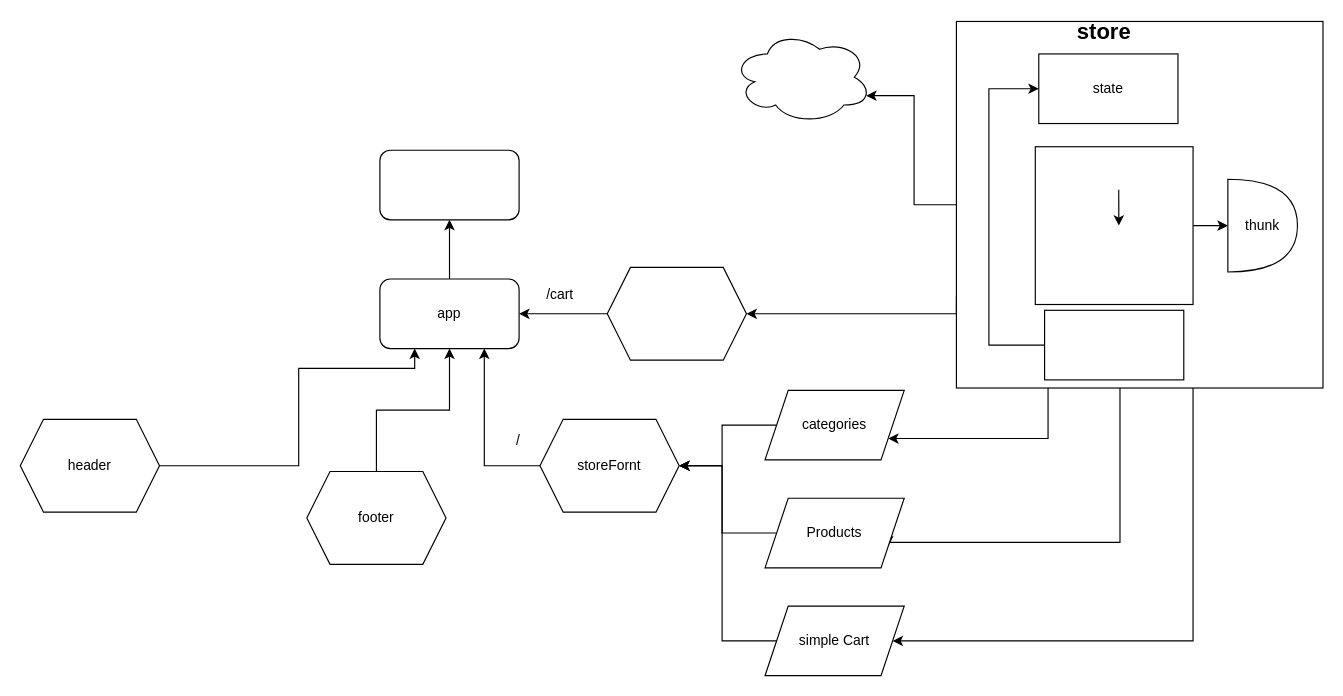
This 1343x696 diagram has some shape labels left out. Here are the shapes that lost their labels. From the top down, the centre of each, then its label:
pixel 801 77: API
pixel 449 184: index
pixel 1113 225: Reducer - Product - Categories - Cart
pixel 676 313: Cart
pixel 1113 344: Updated State
